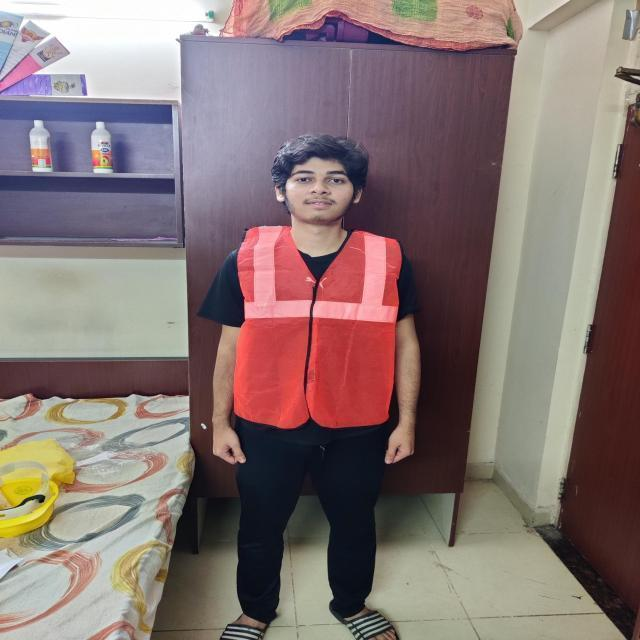no-helmet: (268, 129, 376, 203)
vest: (235, 224, 401, 426)
